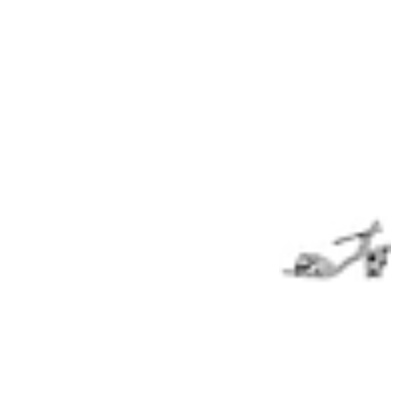Sandal: (279, 193, 391, 305)
